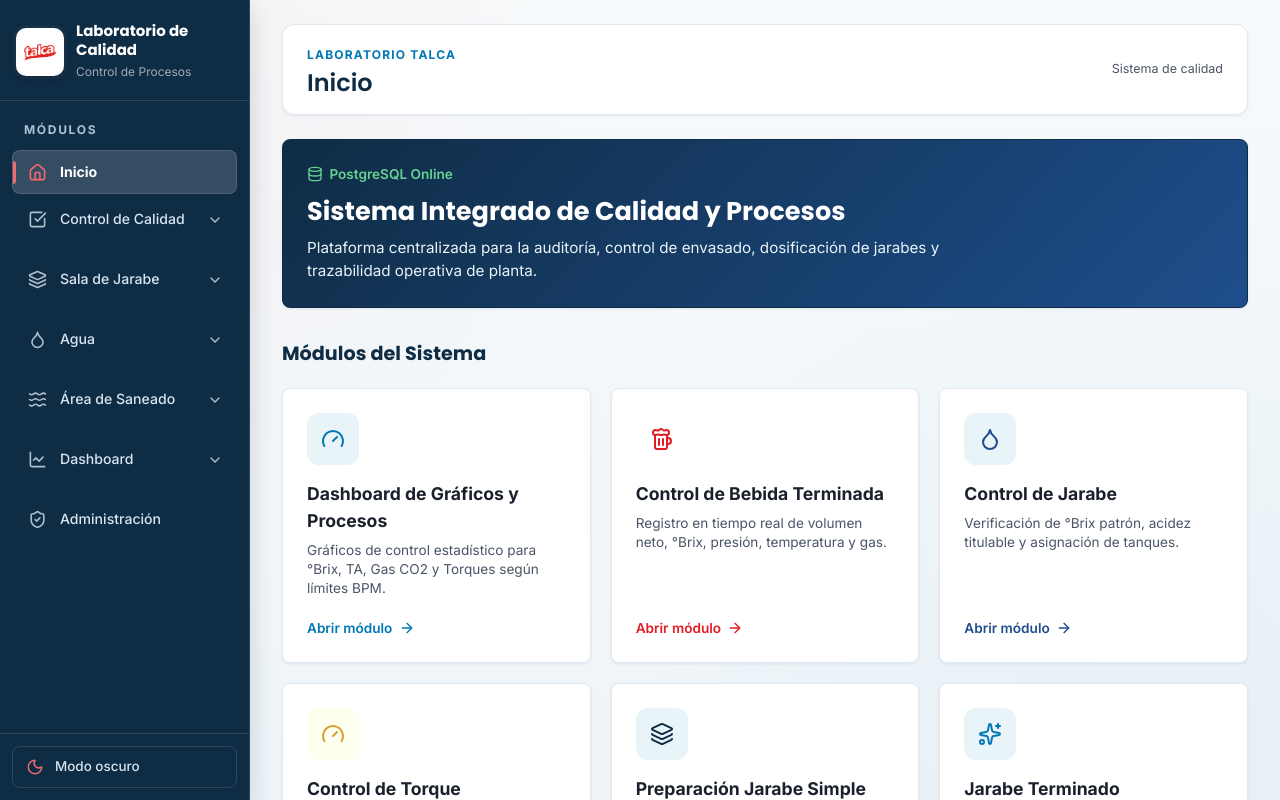
Scenario: las tarjetas de Inicio abren su formulario concreto
The width and height of the screenshot is (1280, 800).
Click the heading "Control de Jarabe".
click(1041, 494)  # box [964,483,1117,504]
(page scrolled)
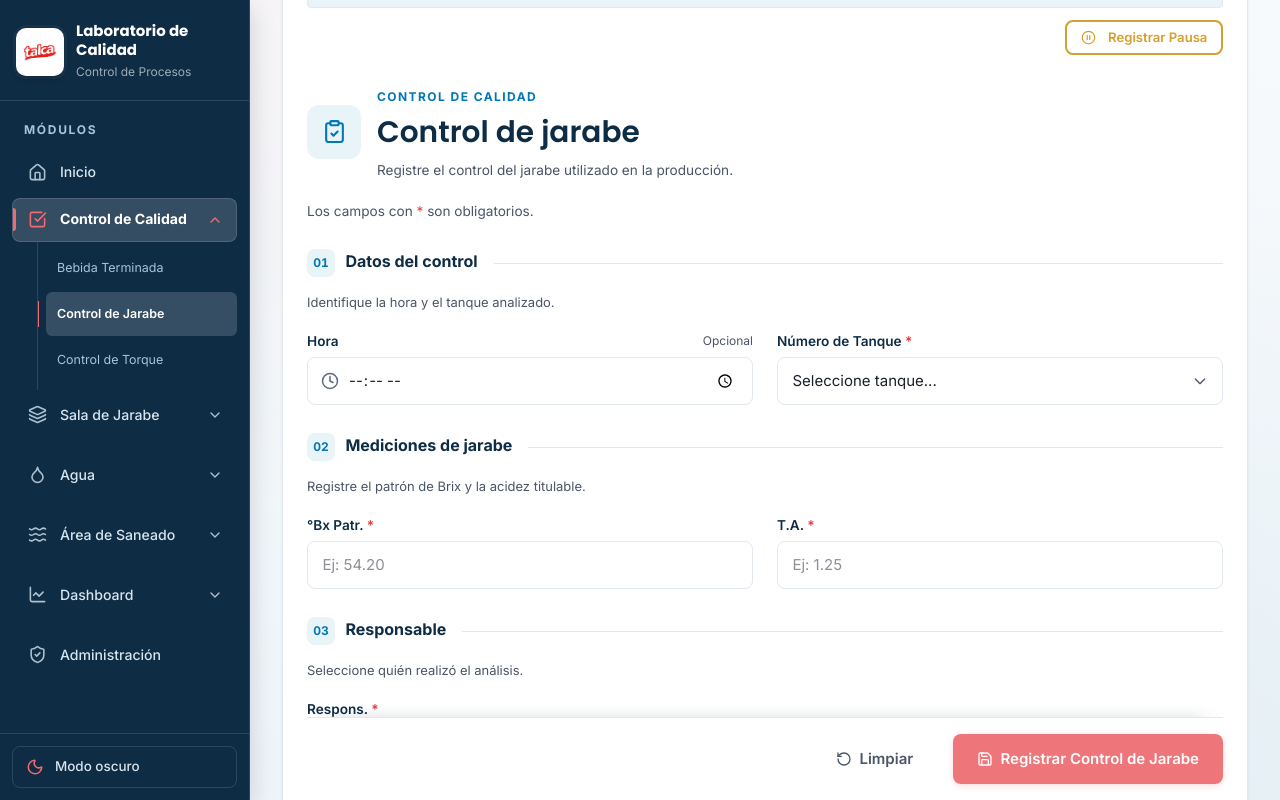
Result: the button "Registrar Control de Jarabe" is shown at [953,734,1223,784]
